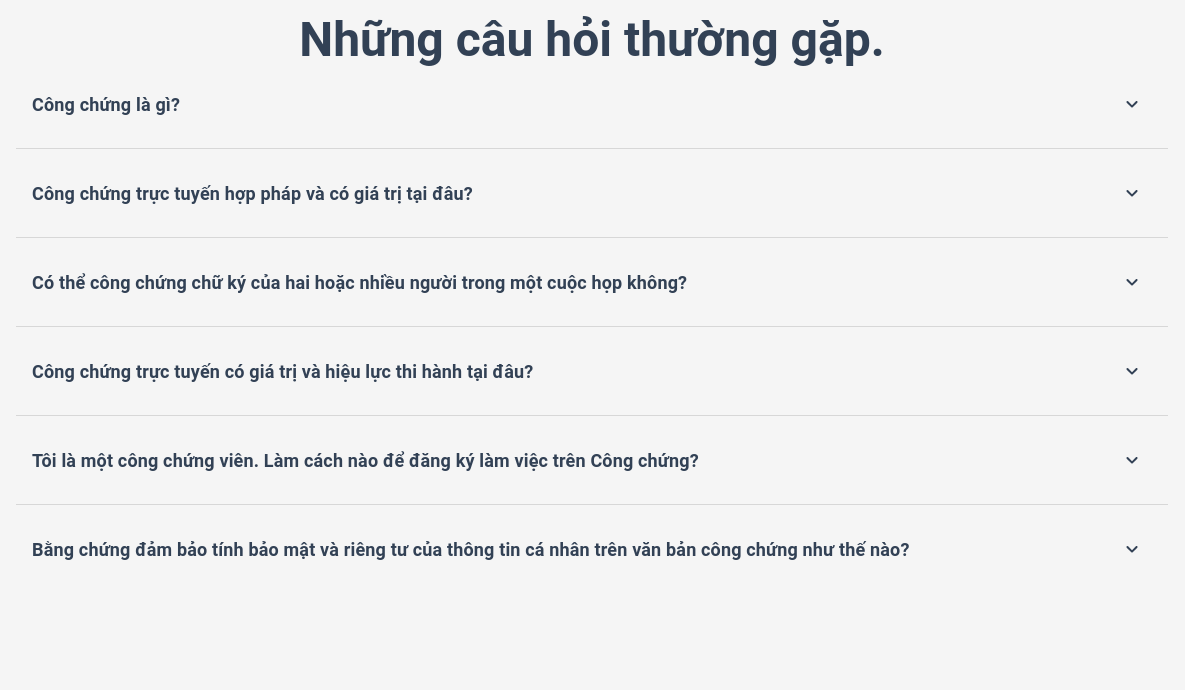
FAQ Component › changes expand/collapse icons when clicked
Expected: the icon with test id "ExpandMoreRoundedIcon" in the row of "Công chứng là gì?" is shown, [1120,92,1144,116]
# After click - should show collapse icon
Click the text "Công chứng là gì?". click: (106, 104)
box: [32,94,180,114]
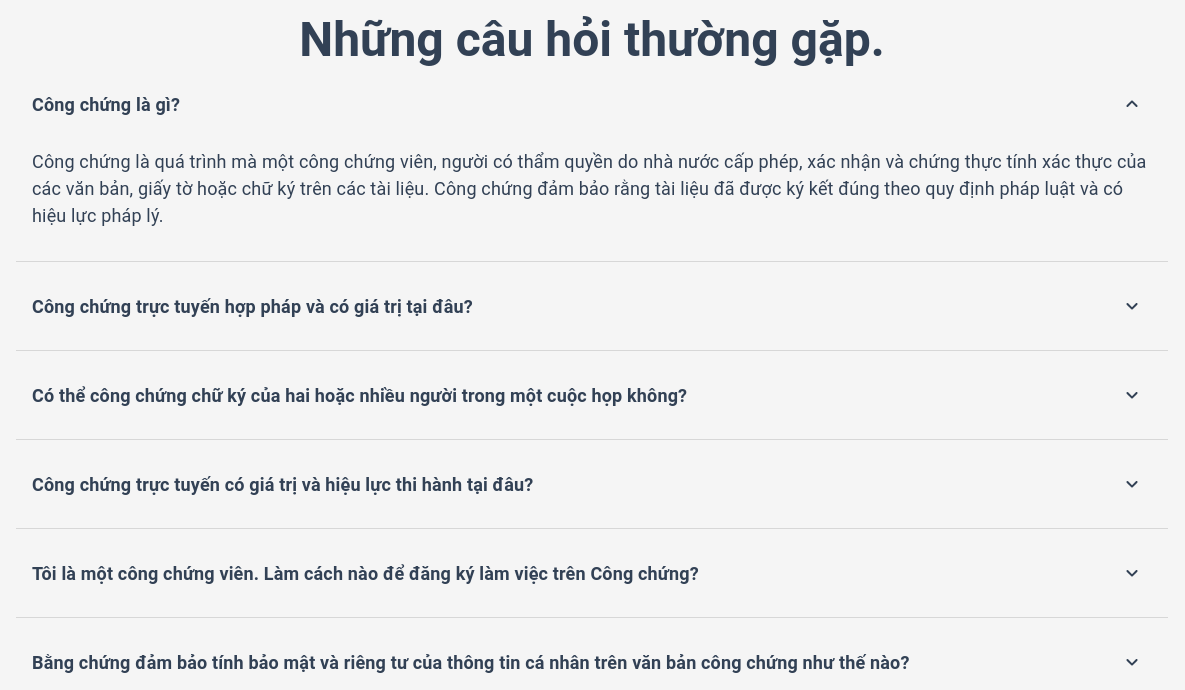
Expected: the icon with test id "ExpandLessRoundedIcon" is shown, [1120,92,1144,116]
